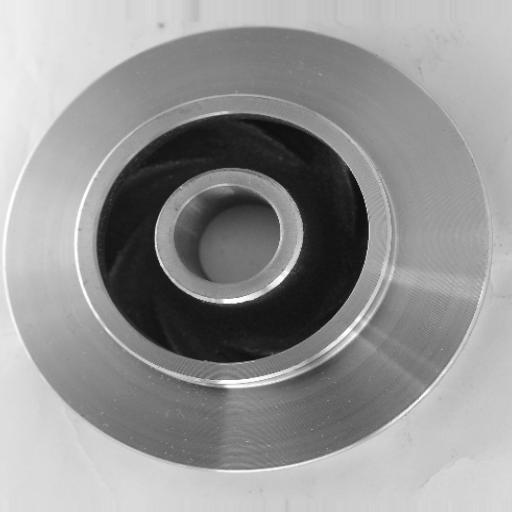polished_casting: (3, 22, 496, 476)
